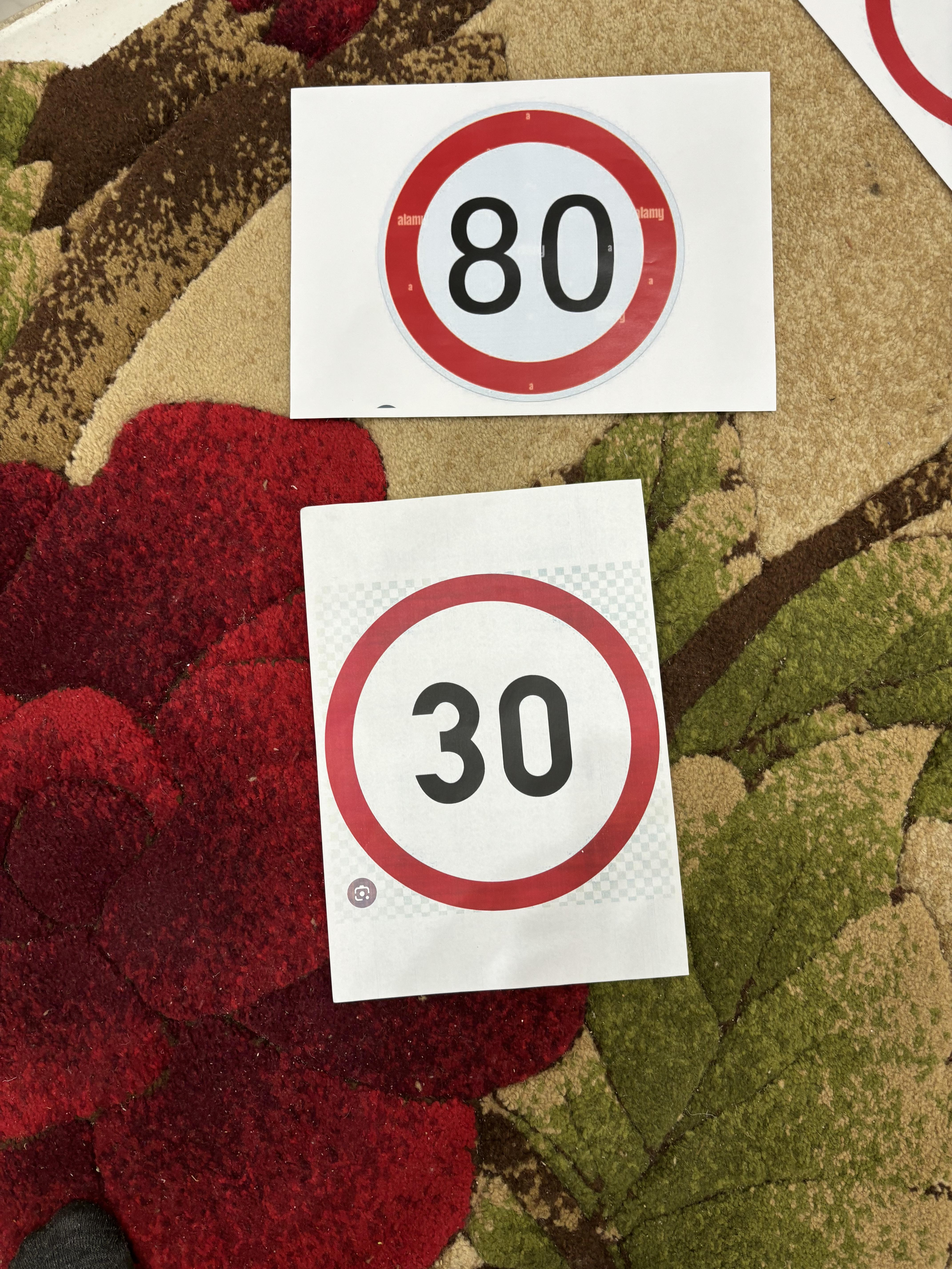30-speed: (330, 571, 658, 915)
80-Speed: (381, 105, 692, 399)
